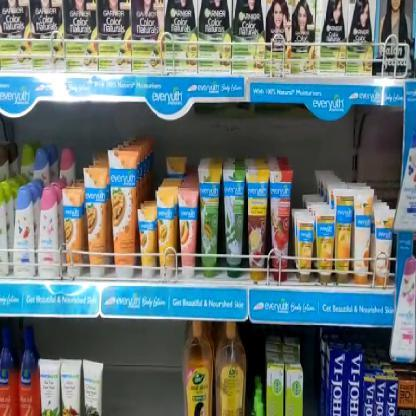Everyuth Naturals Body Lotion Rejuvenating Flora 200ml: (37, 186, 58, 280)
Everyuth Naturals Body Lotion Sun Care Berries SPF 15 200ml: (14, 185, 36, 279)
